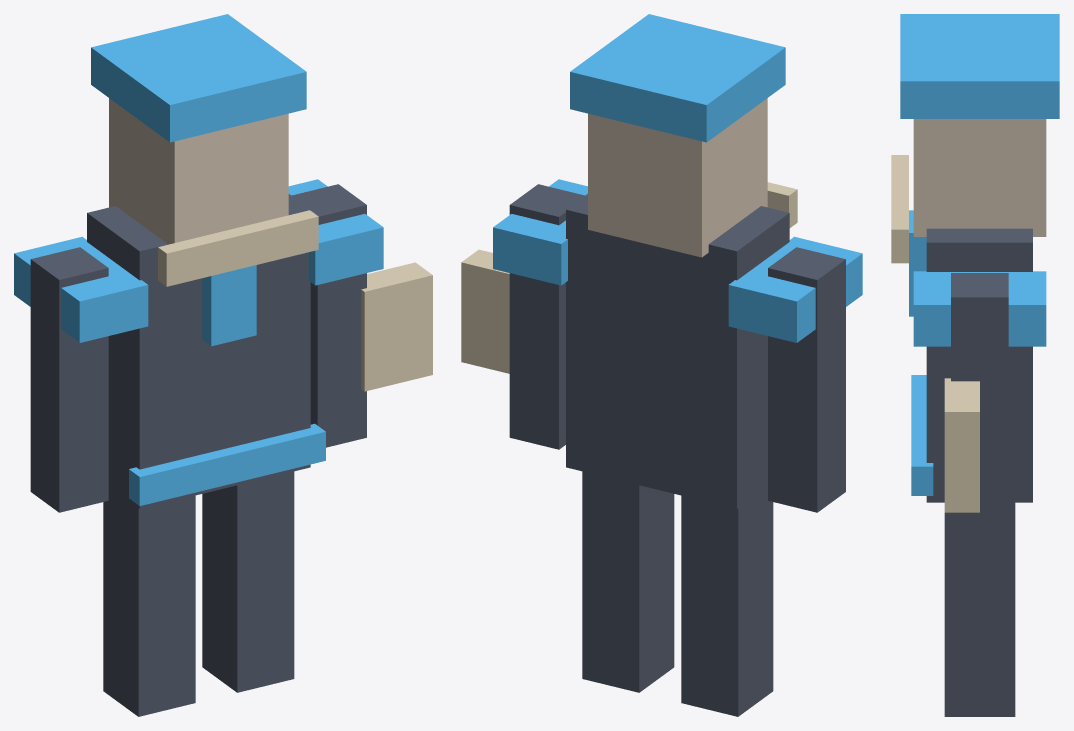
File: 20_ossa_holloway_mechanist_from_laser.glb
3 views of the same model, side by side, from view 1: azimuth 30°, elevation 25°; view 2: azimuth 150°, elevation 25°; view 3: azimuth 270°, elevation 25° (orthographic).
Parts seen in each view (by area): view 1: Ossa Holloway, Mechanist from Laser; view 2: Ossa Holloway, Mechanist from Laser; view 3: Ossa Holloway, Mechanist from Laser.
Boxes of the visible parts, x1=… form: Ossa Holloway, Mechanist from Laser: x1=14, y1=14, x2=432, y2=716; Ossa Holloway, Mechanist from Laser: x1=461, y1=14, x2=862, y2=716; Ossa Holloway, Mechanist from Laser: x1=891, y1=14, x2=1059, y2=716.
Bounding box in the file's own units: 1.06 × 1.71 × 0.4118.
